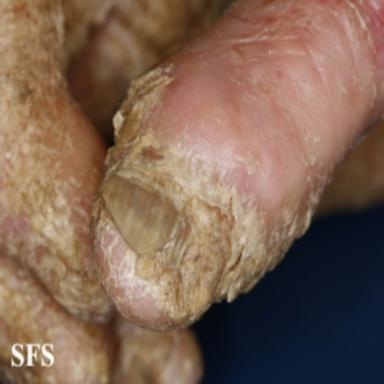Darier_s-Disease: (2, 0, 341, 332)
